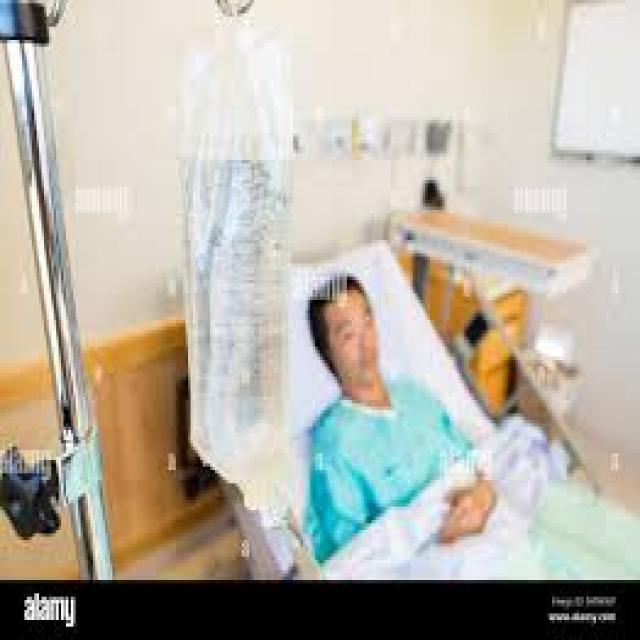iv_fluids: (193, 103, 302, 463)
